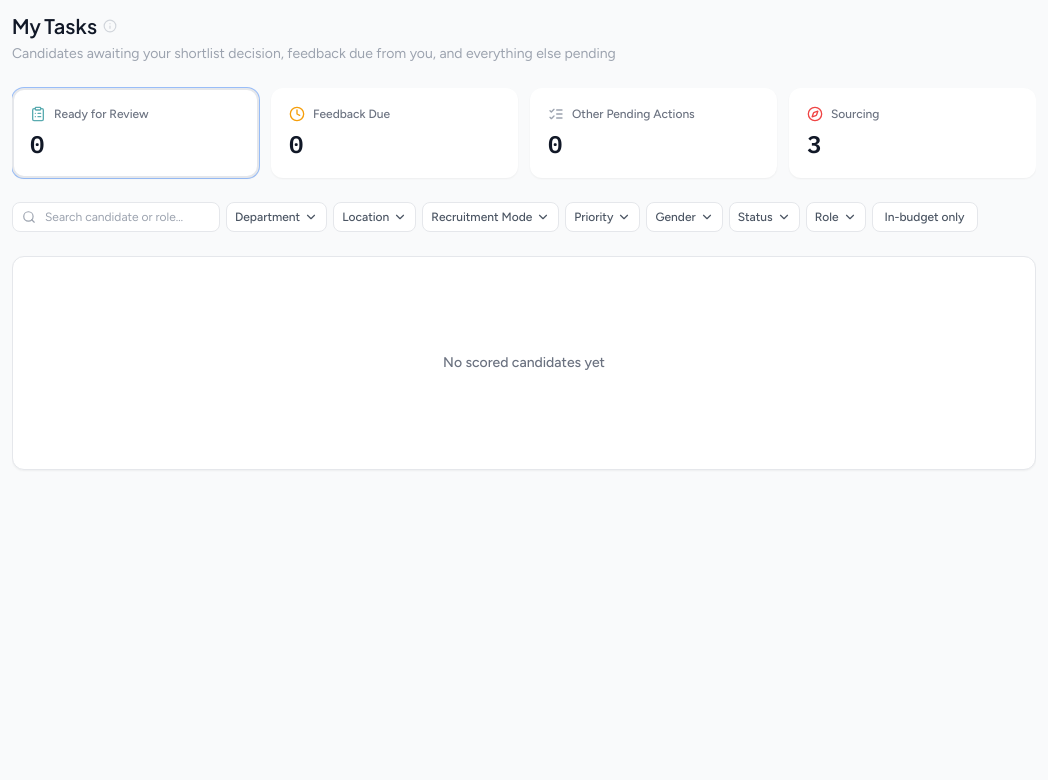
Test: My Tasks — the Sourcing box › shows the three groups, the weekly target line, and the "not shown" footer
Click the button "Sourcing 3" at (912,133), box 789,88 -> 1036,178
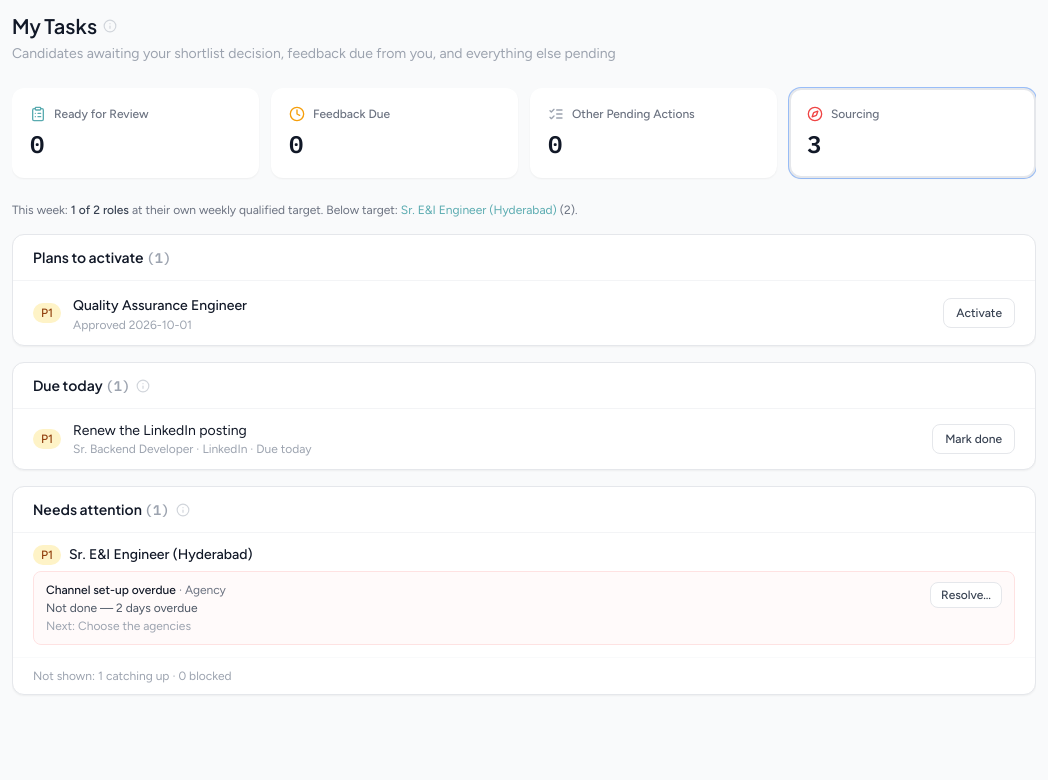
Check: the heading "Plans to activate (1)" is shown, box 33,247 -> 171,268
Check: the text "Renew the LinkedIn posting" is shown, box 73,422 -> 247,439
Check: the text "Not done — 2 days overdue" is shown, box 46,601 -> 198,615
